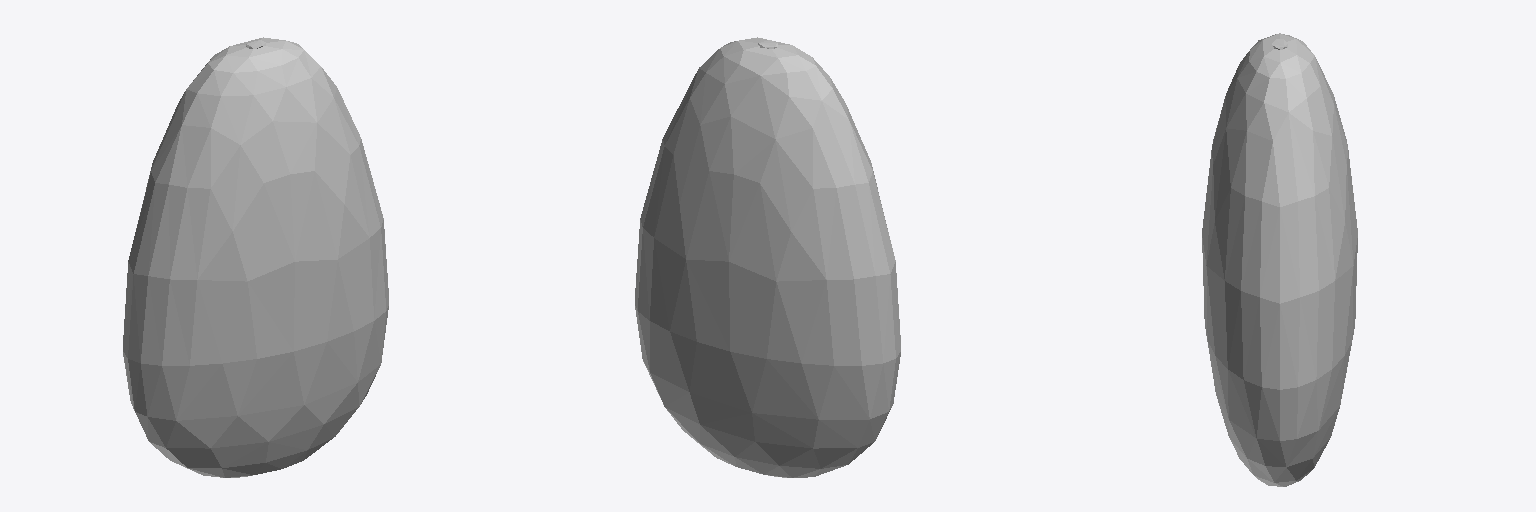
The model's file is sunflower.obj.
3 renders of one model, left to right at view 1: azimuth 30°, elevation 25°; view 2: azimuth 150°, elevation 25°; view 3: azimuth 270°, elevation 25°, orthographic.
Parts seen in each view (by area): view 1: Sunflower_Seed_Sphere.001; view 2: Sunflower_Seed_Sphere.001; view 3: Sunflower_Seed_Sphere.001.
Boxes of the visible parts, box(x1,y1,x2,y2) form: Sunflower_Seed_Sphere.001: box(123, 37, 388, 477); Sunflower_Seed_Sphere.001: box(635, 37, 900, 477); Sunflower_Seed_Sphere.001: box(1202, 33, 1357, 486).
Bounding box in the file's own units: 1.82 × 2.9 × 0.9626.